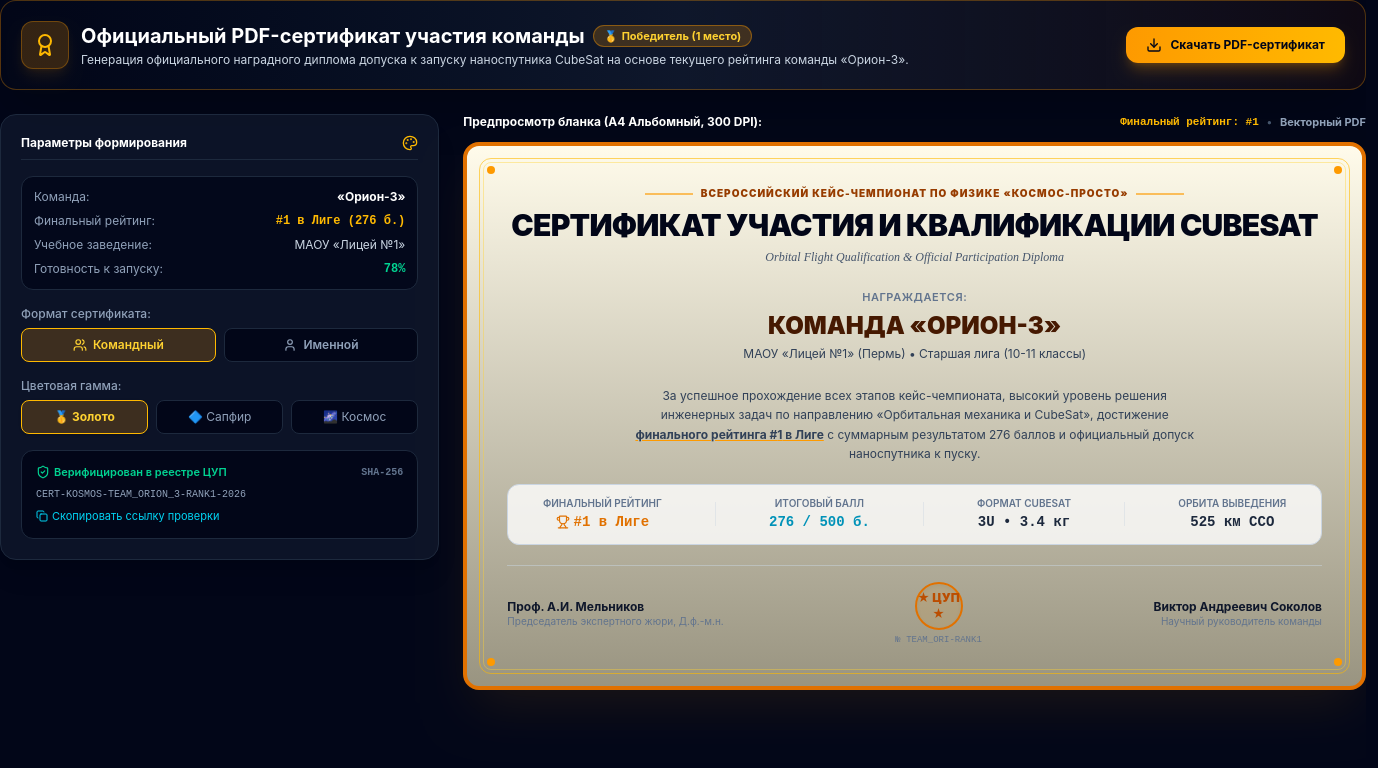
it: TeamParticipationCertificate: Генерация PDF-сертификата участия команды › копирует ссылку верификации в буфер обмена
Click the button "Скопировать ссылку проверки" at (128, 516), box [36,509,219,524]
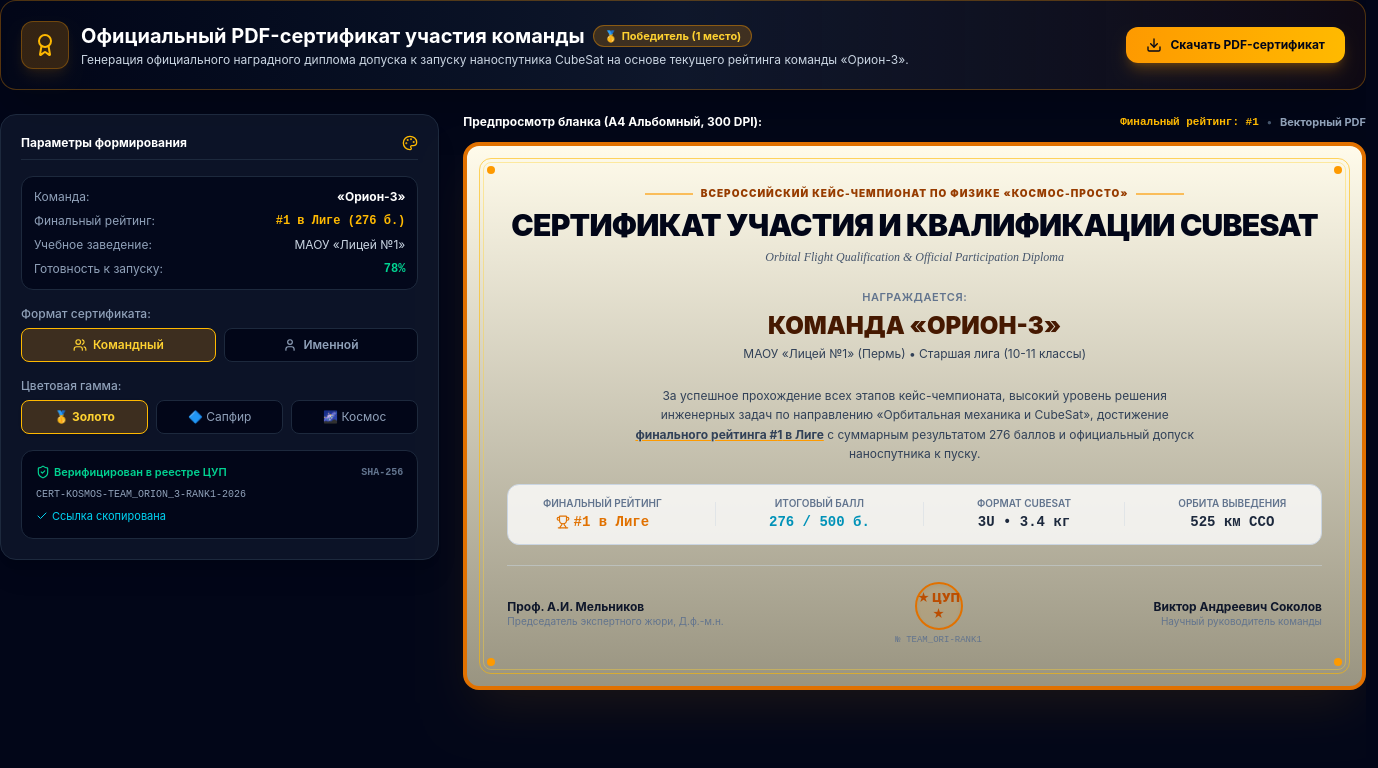
Now the text "Ссылка скопирована" is shown, box [52,509,166,524]
